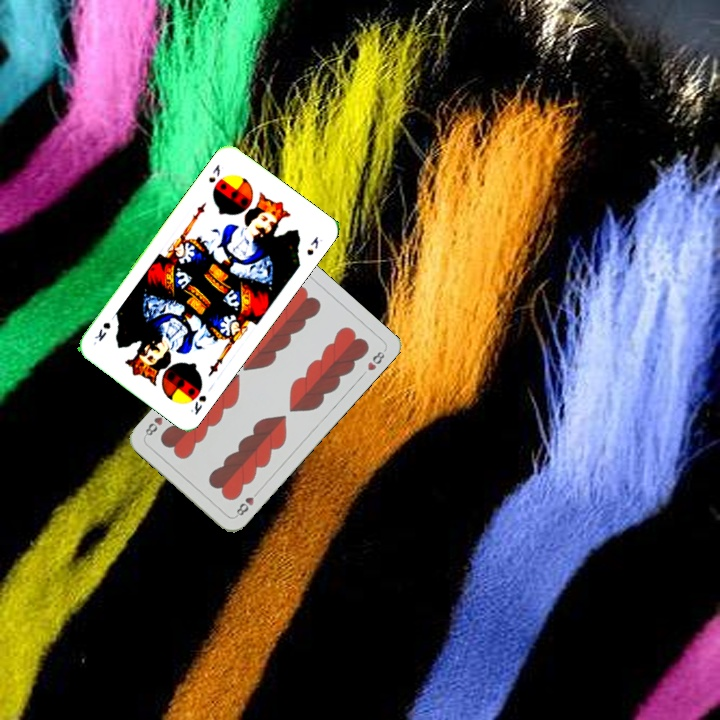H8: (231, 486, 262, 520)
SK: (186, 391, 209, 418), (204, 160, 223, 185)
